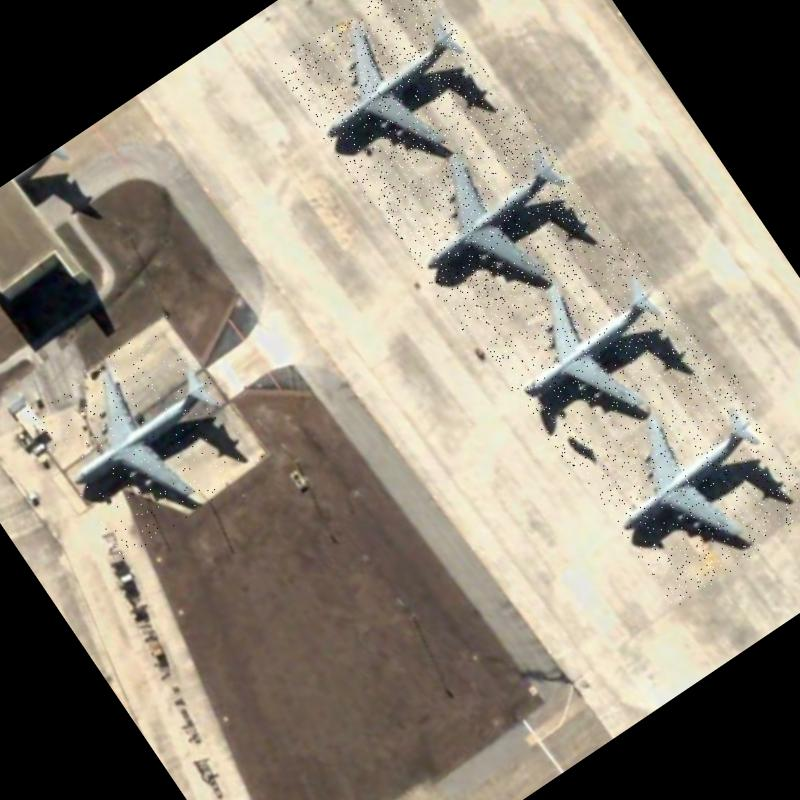A4: (24, 314, 268, 560), (474, 233, 720, 475), (374, 102, 615, 340), (576, 362, 800, 609), (273, 0, 510, 204)
